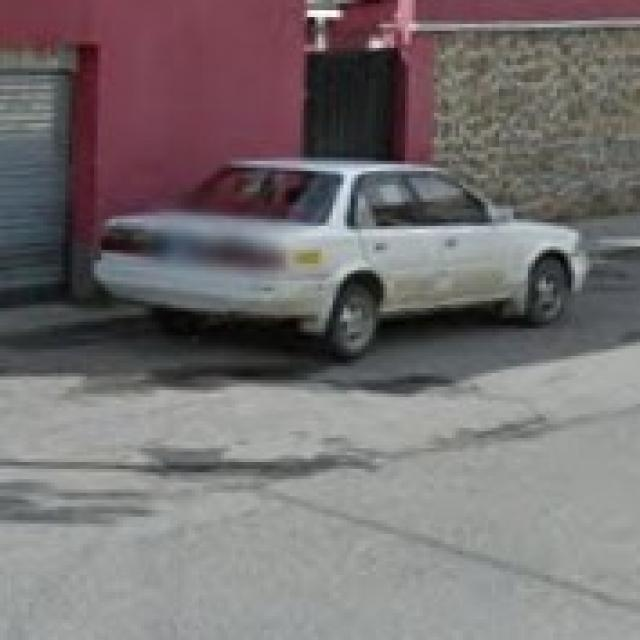cars: (92, 150, 584, 340)
